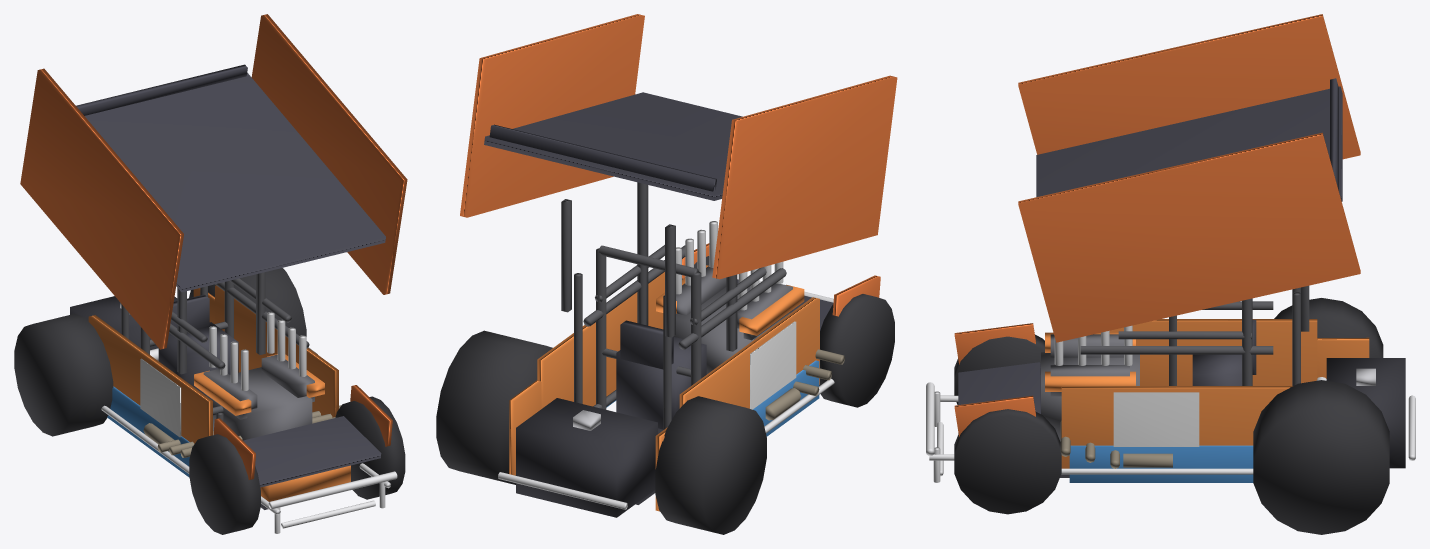
The model's file is sprint_car.glb.
3 renders of one model, left to right at view 1: azimuth 30°, elevation 25°; view 2: azimuth 150°, elevation 25°; view 3: azimuth 270°, elevation 25°, orthographic. The views are drawn at different scales.
Parts seen in each view (by area): view 1: top_foil, sb_L, sb_R, RL_tire, front_foil, FL_tire, side_L, block, side_R, FR_tire, wicker, num_L (+20 smaller); view 2: sb_L, sb_R, top_foil, RL_tire, fuel, RR_tire, FL_tire, side_R, side_L, seat, wicker, num_L (+24 smaller); view 3: sb_R, sb_L, RR_tire, top_foil, FR_tire, side_R, side_L, side_R_low, num_R, fuel, front_foil, RL_tire (+17 smaller).
Part boxes in pixels (box(x1,y1,x2,y2)): top_foil: box(84, 73, 385, 292); sb_L: box(20, 68, 183, 349); sb_R: box(251, 14, 407, 294); RL_tire: box(14, 313, 113, 436); front_foil: box(243, 416, 381, 487); FL_tire: box(189, 434, 260, 534); side_L: box(88, 315, 212, 443); block: box(206, 367, 312, 440); side_R: box(215, 285, 338, 417); FR_tire: box(335, 396, 405, 499); wicker: box(76, 64, 247, 115); num_L: box(140, 358, 181, 437); sb_L: box(712, 75, 897, 279); sb_R: box(460, 14, 644, 217); top_foil: box(484, 92, 742, 200); RL_tire: box(655, 396, 766, 534); fuel: box(516, 398, 657, 517); RR_tire: box(436, 330, 552, 484); FL_tire: box(819, 294, 894, 407); side_R: box(537, 272, 664, 408); side_L: box(679, 297, 819, 408); seat: box(616, 337, 706, 429); wicker: box(489, 124, 716, 191); num_L: box(750, 321, 796, 409); sb_R: box(1018, 132, 1360, 342); sb_L: box(1018, 14, 1360, 159); RR_tire: box(1253, 380, 1389, 534); top_foil: box(1036, 86, 1342, 201); FR_tire: box(954, 409, 1061, 514); side_R: box(1061, 386, 1292, 468); side_L: box(1109, 319, 1317, 385); side_R_low: box(1069, 445, 1253, 482); num_R: box(1113, 392, 1199, 446); fuel: box(1326, 358, 1405, 468); front_foil: box(958, 362, 1040, 433); RL_tire: box(1274, 298, 1383, 357).
Size of the model in its own units: 1.48 by 2.17 by 2.43.
